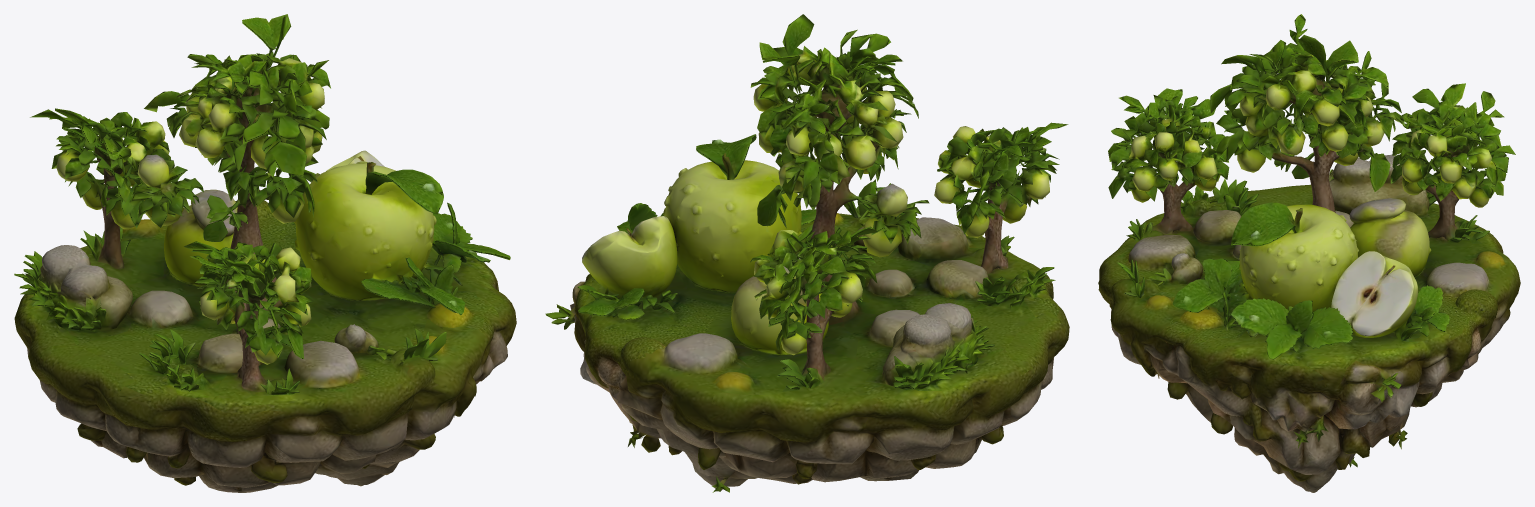
The model's file is isl-orchard.glb.
3 views of the same model, side by side, from view 1: azimuth 30°, elevation 25°; view 2: azimuth 150°, elevation 25°; view 3: azimuth 270°, elevation 25° (orthographic). The views are drawn at different scales.
Parts seen in each view (by area): view 1: tripo_node_740d9a38-4a5c-49bf-ad53-d82cd50f5ec2; view 2: tripo_node_740d9a38-4a5c-49bf-ad53-d82cd50f5ec2; view 3: tripo_node_740d9a38-4a5c-49bf-ad53-d82cd50f5ec2.
Boxes of the visible parts, x1=… form: tripo_node_740d9a38-4a5c-49bf-ad53-d82cd50f5ec2: x1=14, y1=14, x2=516, y2=492; tripo_node_740d9a38-4a5c-49bf-ad53-d82cd50f5ec2: x1=545, y1=14, x2=1069, y2=492; tripo_node_740d9a38-4a5c-49bf-ad53-d82cd50f5ec2: x1=1098, y1=14, x2=1520, y2=492.
Bounding box in the file's own units: 0.923 × 0.9802 × 0.8823.
1 material, 1 textured.
